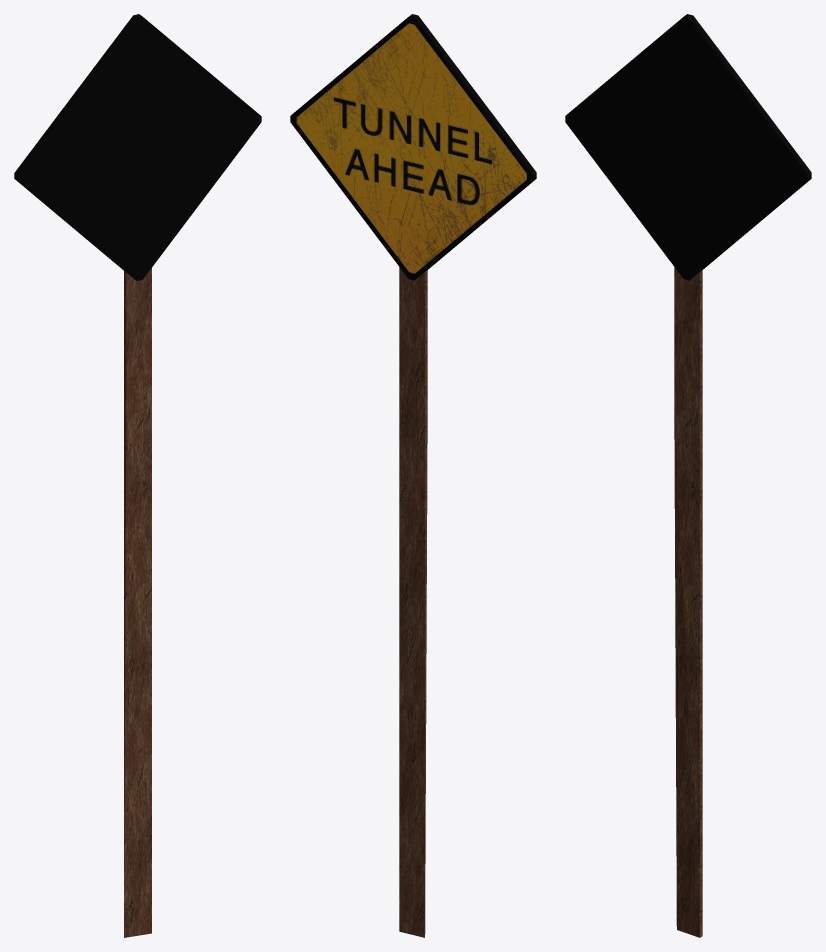
The model's file is objSign.obj.
3 views of the same model, side by side, from view 1: azimuth 30°, elevation 25°; view 2: azimuth 150°, elevation 25°; view 3: azimuth 330°, elevation 25° (orthographic).
Visible parts, largest first — view 1: sign; view 2: sign; view 3: sign.
Boxes of the visible parts, x1,y1,x2,y2 form: sign: [14, 14, 261, 937]; sign: [290, 14, 536, 937]; sign: [565, 14, 811, 937].
Size of the model in its own units: 1.24 by 4.46 by 0.0327.
3 materials, 2 textured.
